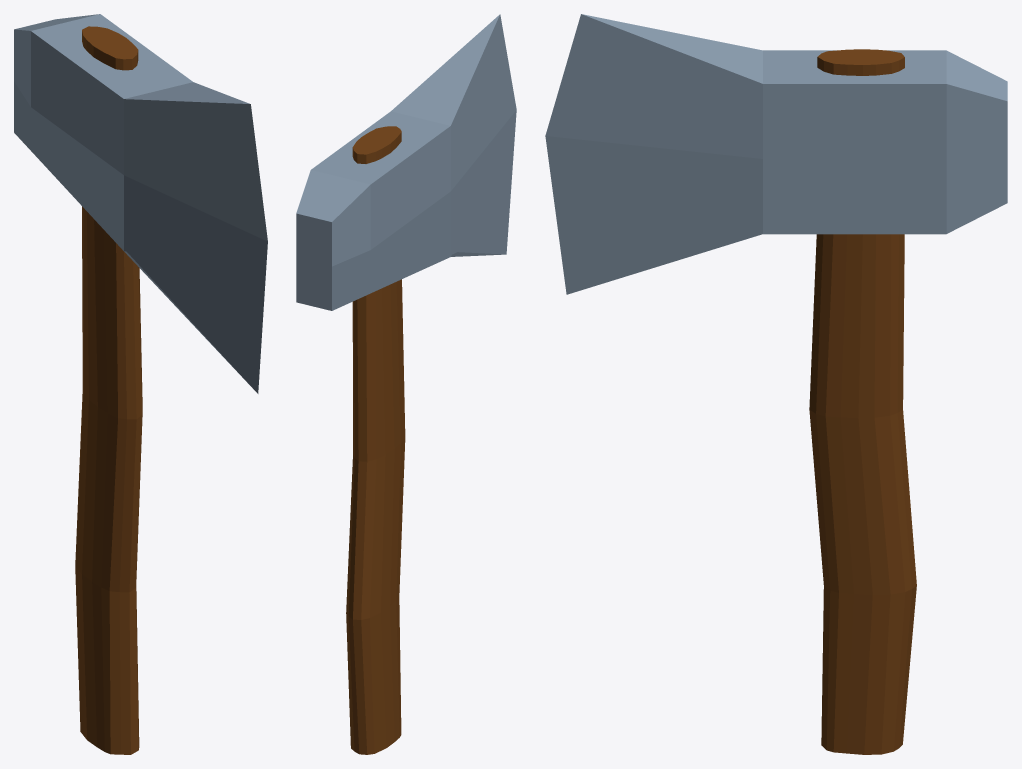
The model's file is metal_axe.glb.
3 views of the same model, side by side, from view 1: azimuth 30°, elevation 25°; view 2: azimuth 150°, elevation 25°; view 3: azimuth 270°, elevation 25° (orthographic). The views are drawn at different scales.
Parts seen in each view (by area): view 1: Cube.001, Cube; view 2: Cube.001, Cube; view 3: Cube.001, Cube.
Part boxes in pixels (bbox=[...]): Cube.001: bbox=[14, 14, 267, 393]; Cube: bbox=[75, 26, 142, 754]; Cube.001: bbox=[296, 14, 516, 310]; Cube: bbox=[346, 126, 405, 754]; Cube.001: bbox=[545, 14, 1007, 294]; Cube: bbox=[809, 49, 916, 754].
Size of the model in its own units: 0.536 by 5.45 by 3.12.
